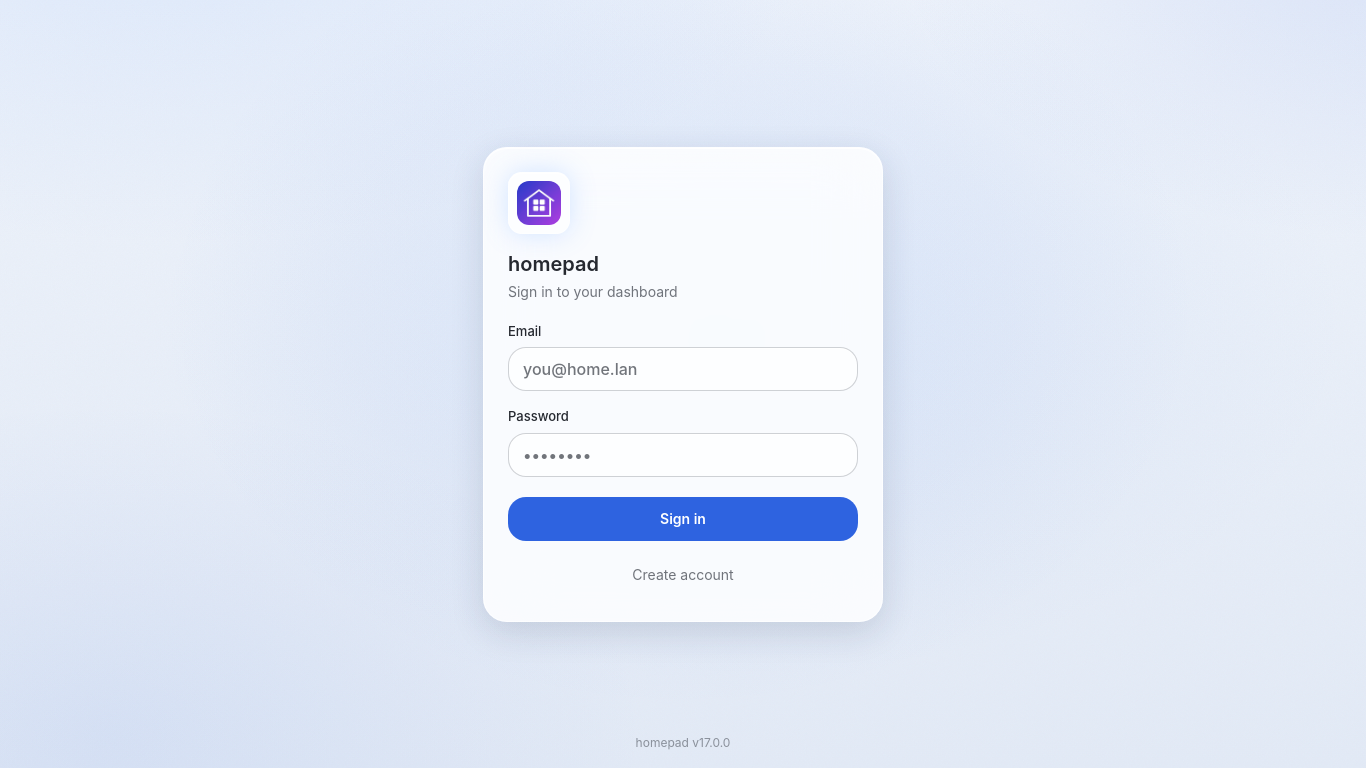
Scenario: v27 — login glass restyle › shows "Signing in…" on the CTA while a credential login is in flight
Step 1. Type "nani@ohana.io" into the field labelled "Email" → [683, 369], box x1=508 y1=347 x2=858 y2=391
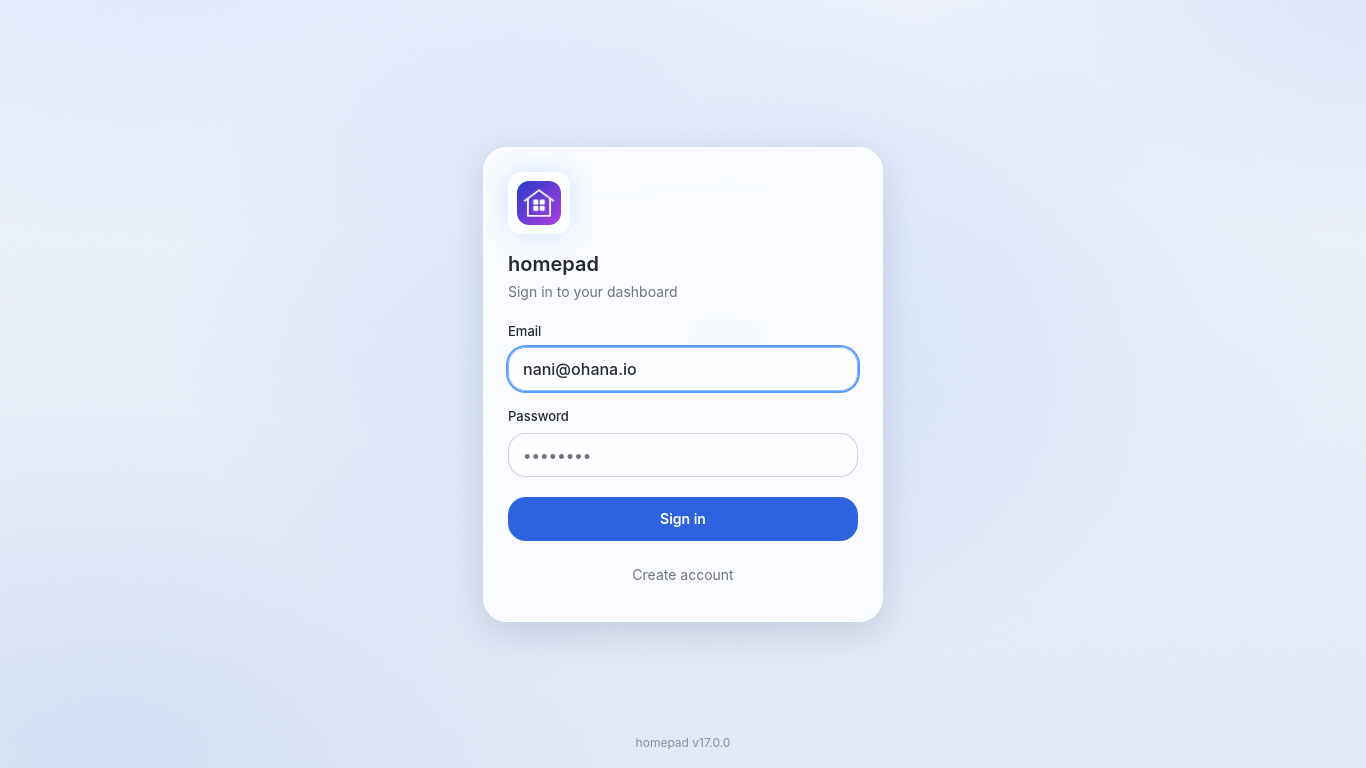
Step 2. Type "stitch626" into the password field labelled "Password" → [683, 454], box x1=508 y1=432 x2=858 y2=476
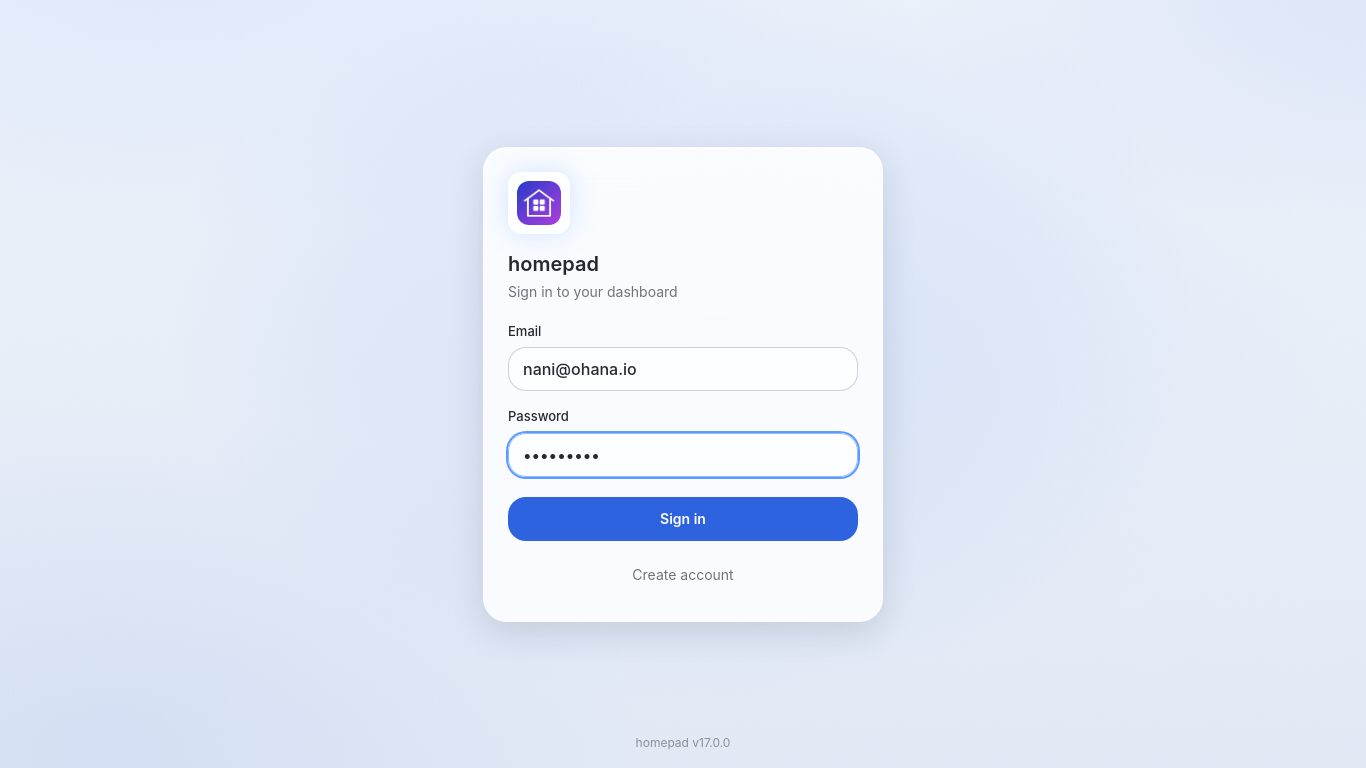
Step 3. Click the button "Sign in" → [683, 518], box x1=508 y1=496 x2=858 y2=540
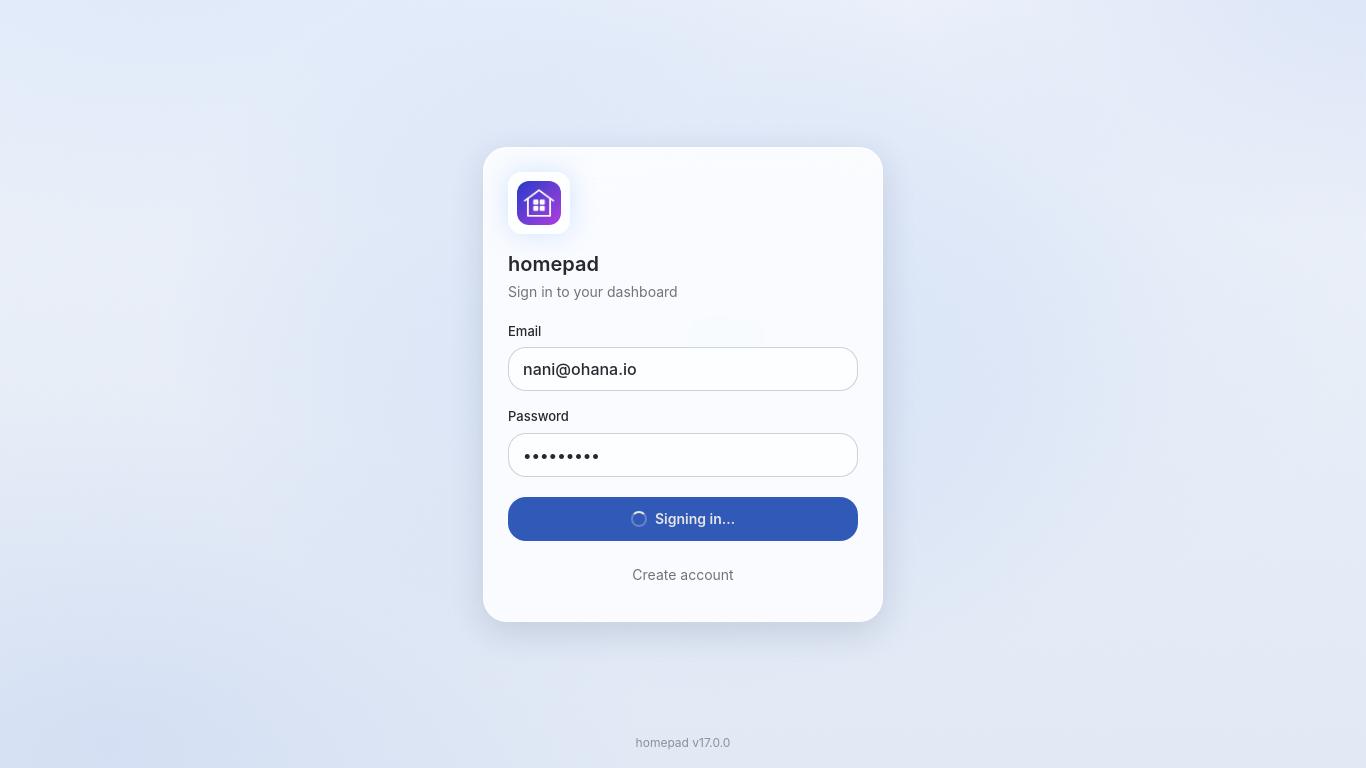
Check: the button "Signing in…" is shown, box x1=508 y1=496 x2=858 y2=540
